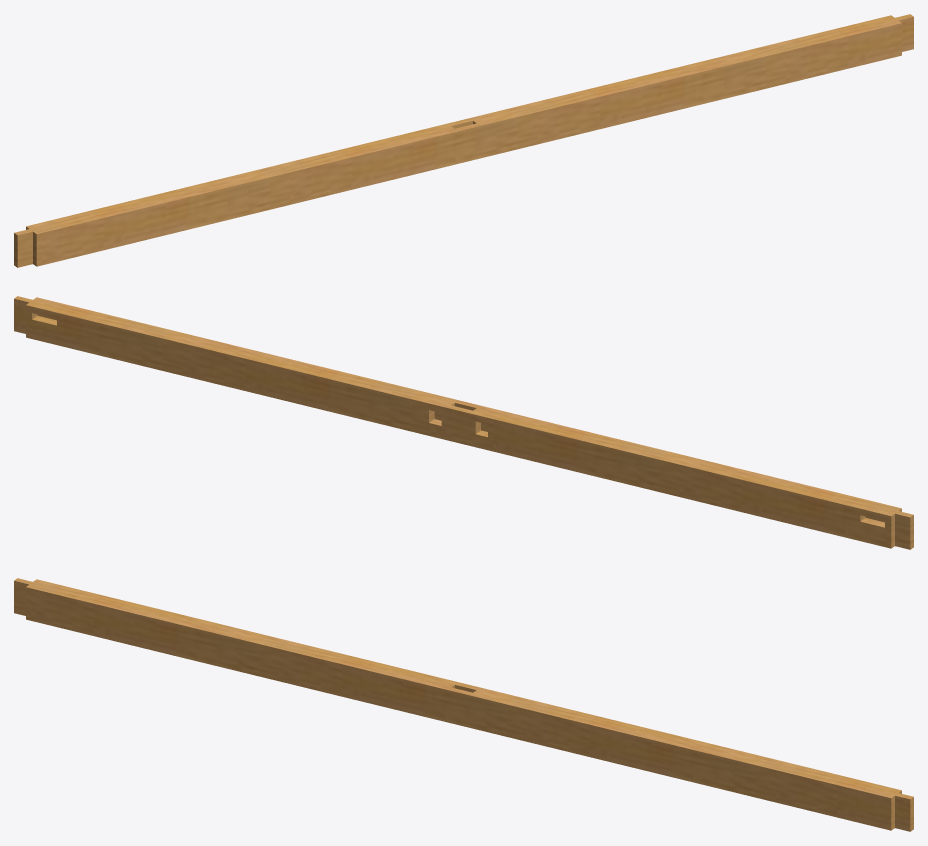
File: original-27.obj
3 renders of one model, top to bottom at view 1: azimuth 30°, elevation 25°; view 2: azimuth 150°, elevation 25°; view 3: azimuth 330°, elevation 25°, orthographic.
Visible parts, largest first — view 1: front_rail1/front_rail/mesh54/mesh54-geometry#mesh54-geometry; view 2: front_rail1/front_rail/mesh54/mesh54-geometry#mesh54-geometry; view 3: front_rail1/front_rail/mesh54/mesh54-geometry#mesh54-geometry.
Boxes of the visible parts, x1,y1,x2,y2 form: front_rail1/front_rail/mesh54/mesh54-geometry#mesh54-geometry: [14, 14, 913, 267]; front_rail1/front_rail/mesh54/mesh54-geometry#mesh54-geometry: [14, 296, 913, 549]; front_rail1/front_rail/mesh54/mesh54-geometry#mesh54-geometry: [14, 578, 913, 831].
Bounding box in the file's own units: 1.1 × 0.0381 × 0.0228.
